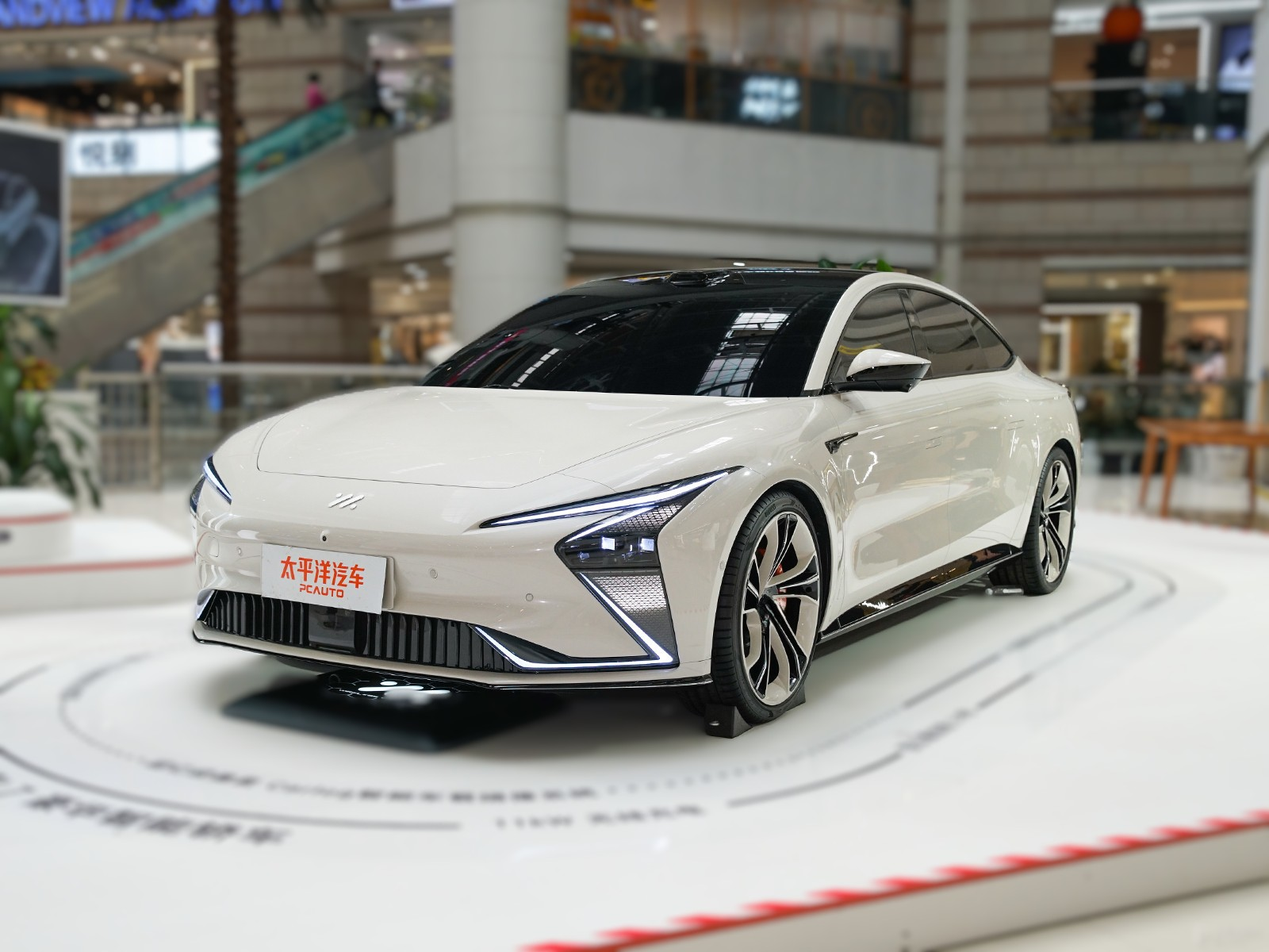IM: (328, 493, 364, 510)
